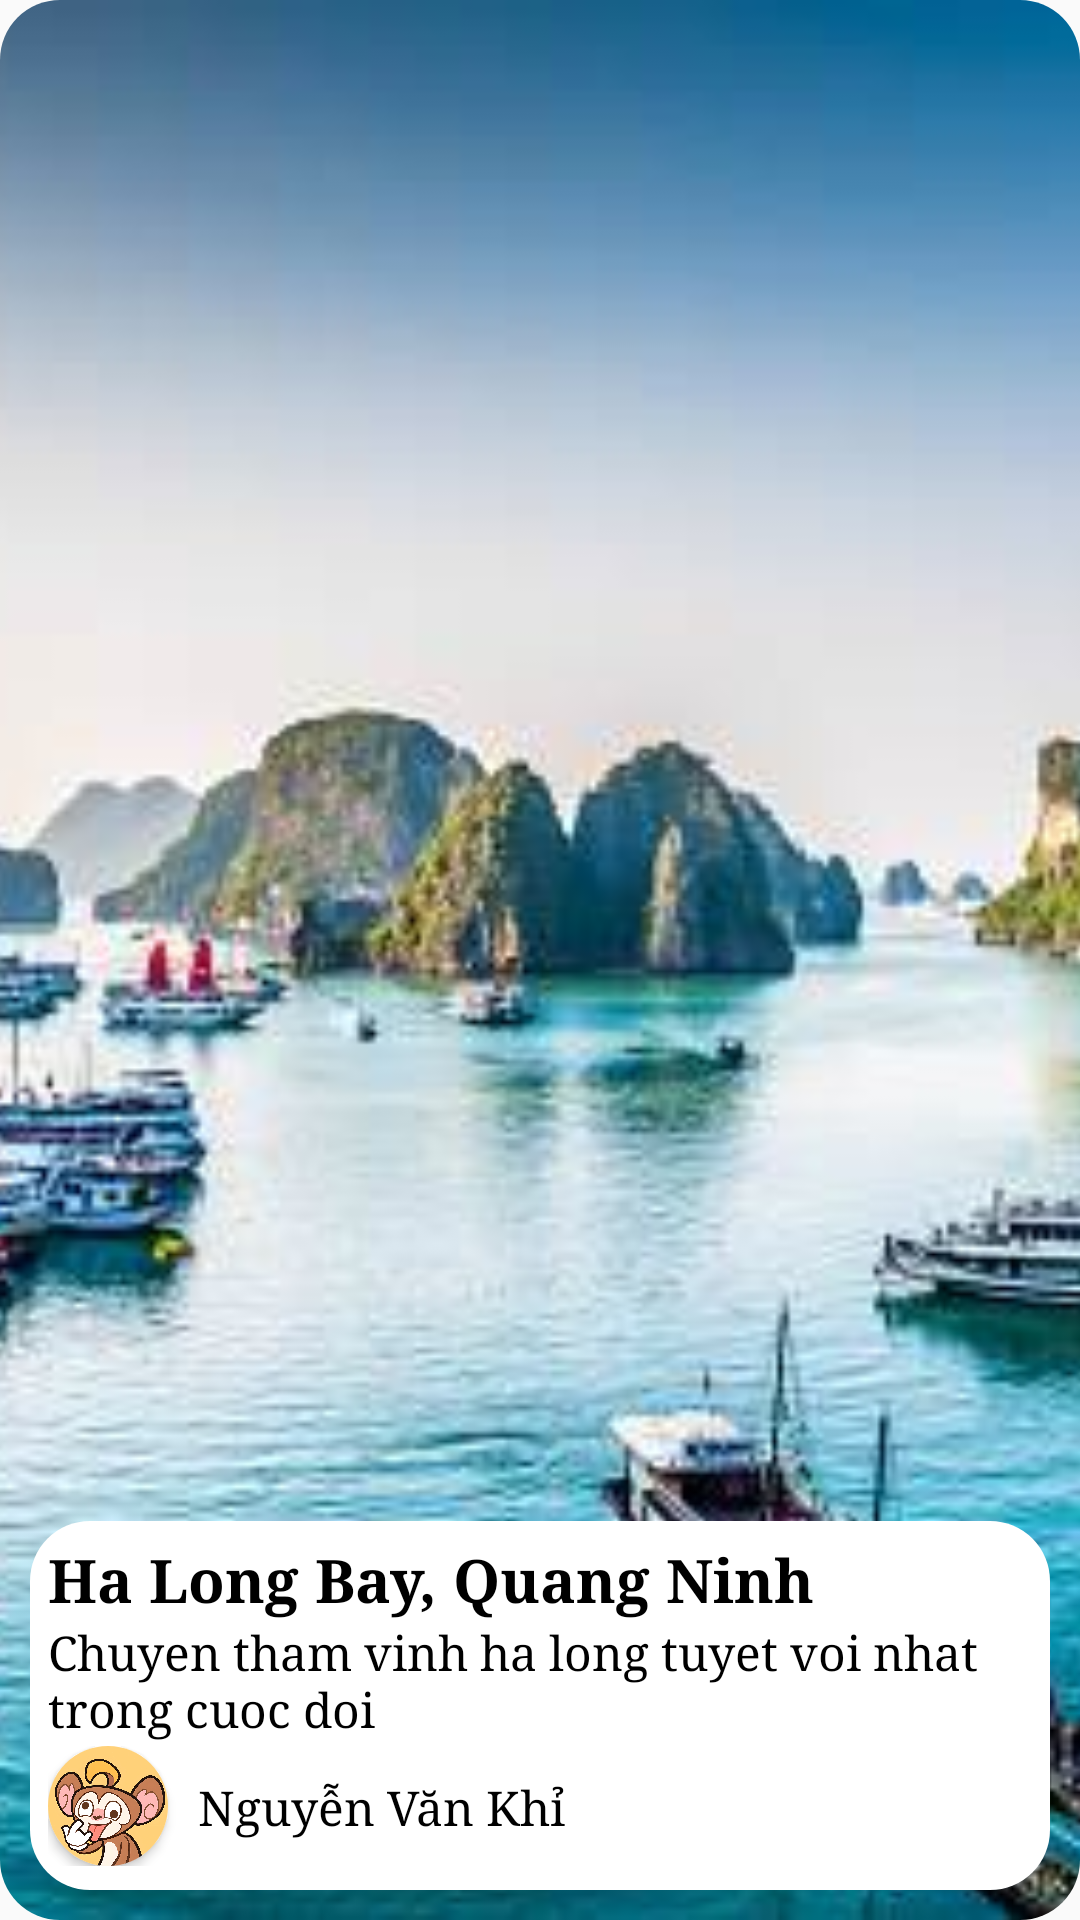

Icons on this 1080px x 1920px Android screen, each with its box as (x1, y1, x2, y2):
monkey: (48, 1746, 168, 1866)
